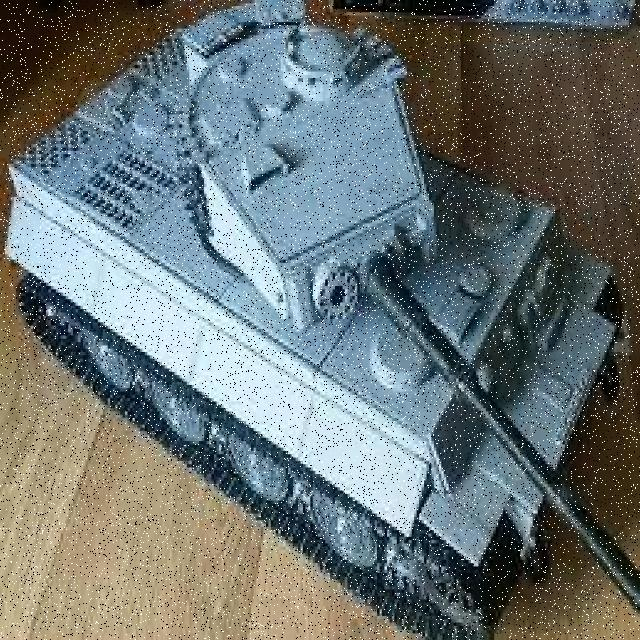MIL_MBT: (9, 7, 638, 629)
